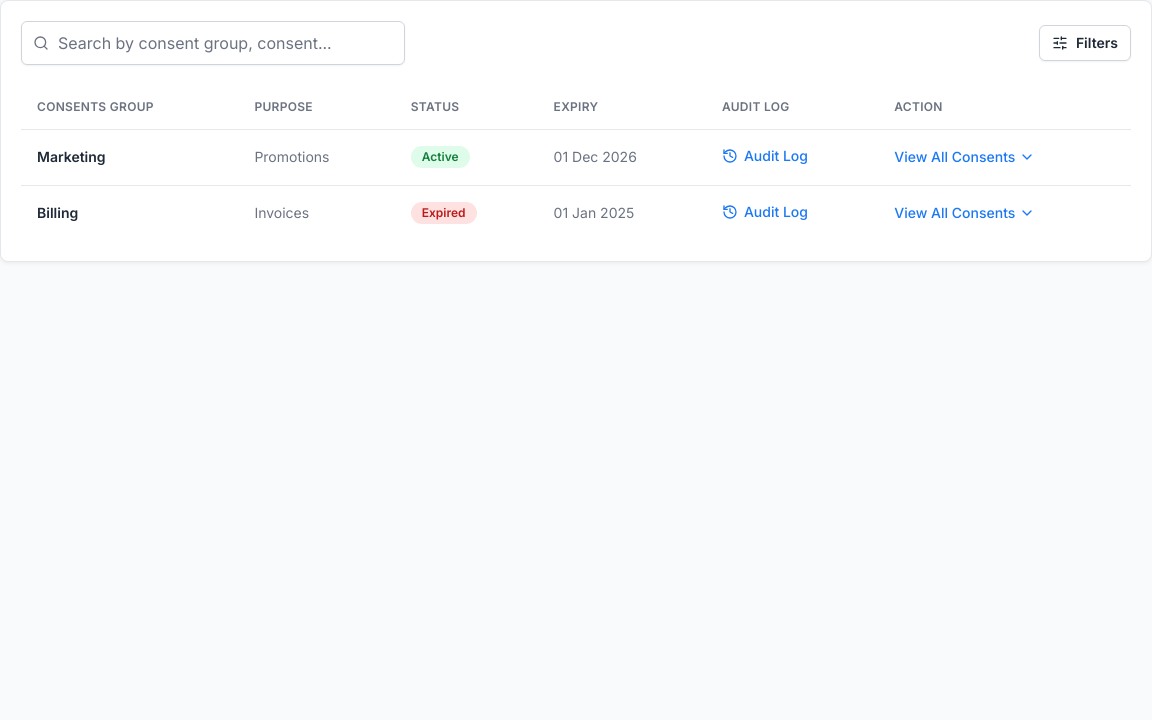
Scenario: PreferenceDetail › expands a row to reveal its legal detail and toggle
Click the button "View All Consents" in the row of "Promotions": (965, 157) [894,147,1035,167]
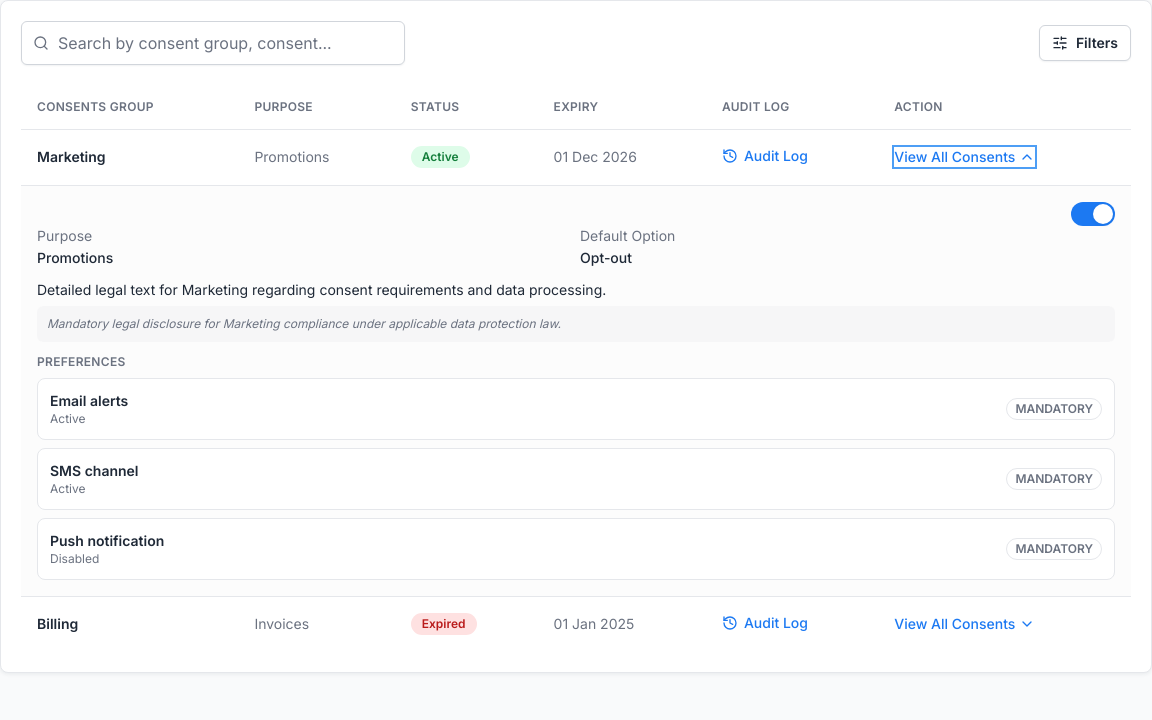
Check: the text "Detailed legal text for Marketing" is shown, box [37,280,606,298]
Check: the switch named "Toggle Marketing" is shown, box [1071,202,1115,226]
